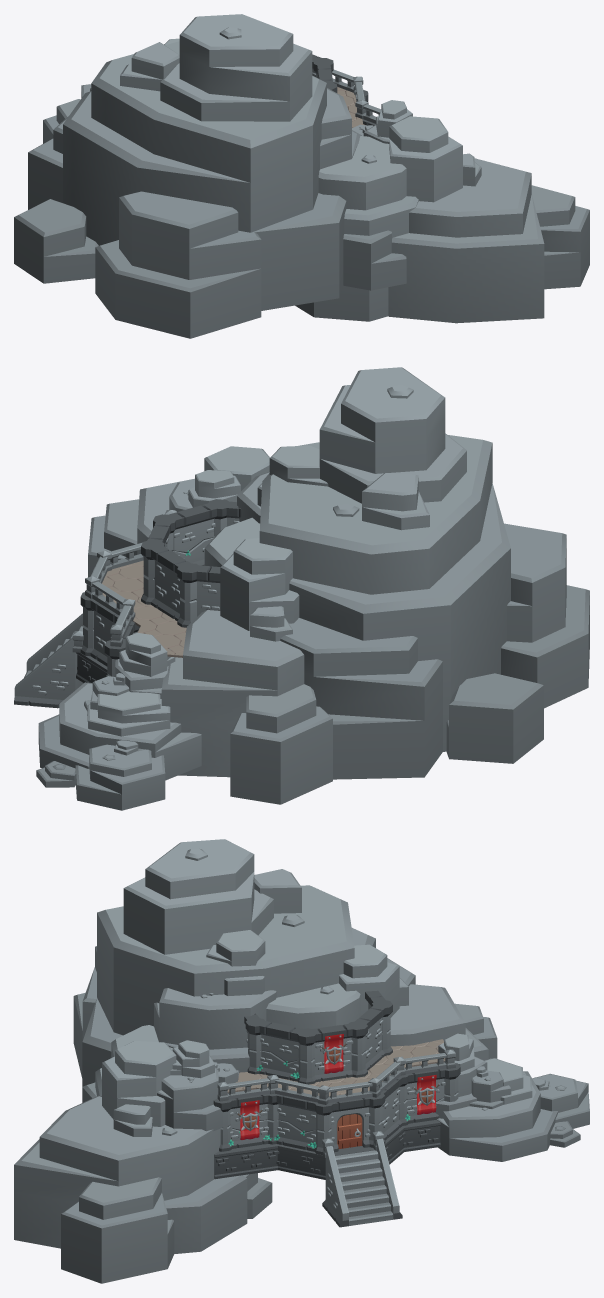
Rendered from castle.glb.
3 renders of one model, top to bottom at view 1: azimuth 30°, elevation 25°; view 2: azimuth 150°, elevation 25°; view 3: azimuth 270°, elevation 25°, orthographic. The views are drawn at different scales.
Parts seen in each view (by area): view 1: Cylinder.003.col, Cylinder.004.col, Cylinder.007.col, Cylinder.006.col, Cylinder.002.col; view 2: Cylinder.003.col, Cylinder.002.col, Cylinder.001.col, Cylinder.004.col, stairs.002.col, Cylinder.005.col, Cylinder.007.col, wall_cracked.004.col, Cylinder.006.col, wall.002.col, wall.001.col, pillar.009.col (+6 smaller); view 3: Cylinder.004.col, Cylinder.003.col, Cylinder.002.col, Cylinder.001.col, Cylinder.007.col, stairs.002.col, Cylinder.006.col, Cylinder.005.col, wall_cracked.004.col, wall_cracked.005.col, wall.003.col, wall_cracked.003.col (+22 smaller).
Part boxes in pixels (bbox=[...]): Cylinder.003.col: bbox=[14, 14, 406, 338]; Cylinder.004.col: bbox=[295, 116, 589, 323]; Cylinder.007.col: bbox=[320, 88, 361, 169]; Cylinder.006.col: bbox=[352, 100, 412, 143]; Cylinder.002.col: bbox=[43, 38, 179, 143]; Cylinder.003.col: bbox=[259, 367, 589, 779]; Cylinder.002.col: bbox=[161, 517, 332, 804]; Cylinder.001.col: bbox=[36, 682, 201, 810]; Cylinder.004.col: bbox=[88, 446, 269, 577]; stairs.002.col: bbox=[14, 613, 83, 708]; Cylinder.005.col: bbox=[84, 632, 175, 710]; Cylinder.007.col: bbox=[237, 445, 328, 523]; wall_cracked.004.col: bbox=[167, 501, 222, 565]; Cylinder.006.col: bbox=[169, 470, 240, 512]; wall.002.col: bbox=[149, 545, 194, 620]; wall.001.col: bbox=[193, 565, 220, 616]; pillar.009.col: bbox=[177, 563, 199, 627]; Cylinder.004.col: bbox=[14, 1025, 272, 1283]; Cylinder.003.col: bbox=[73, 839, 415, 1102]; Cylinder.002.col: bbox=[266, 944, 497, 1060]; Cylinder.001.col: bbox=[436, 1058, 589, 1161]; Cylinder.007.col: bbox=[154, 930, 276, 1072]; stairs.002.col: bbox=[322, 1138, 402, 1227]; Cylinder.006.col: bbox=[157, 1040, 239, 1131]; Cylinder.005.col: bbox=[435, 1033, 511, 1118]; wall_cracked.004.col: bbox=[254, 1020, 306, 1081]; wall_cracked.005.col: bbox=[274, 1095, 318, 1151]; wall.003.col: bbox=[305, 1023, 358, 1081]; wall_cracked.003.col: bbox=[224, 1093, 275, 1148].
Size of the model in its own units: 40.99 by 23.09 by 43.22.
2 materials, 2 textured.
